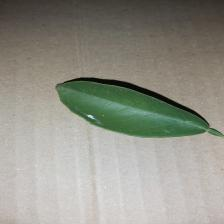healthy: (55, 79, 210, 137)
